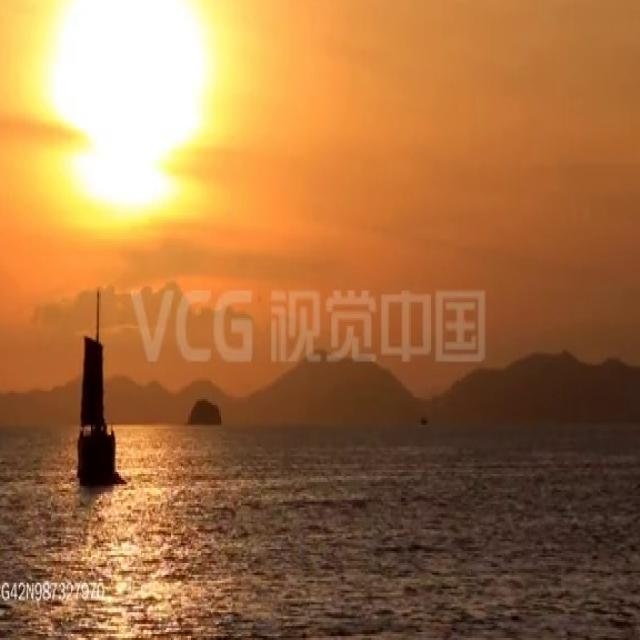sailboat: (74, 282, 118, 488)
